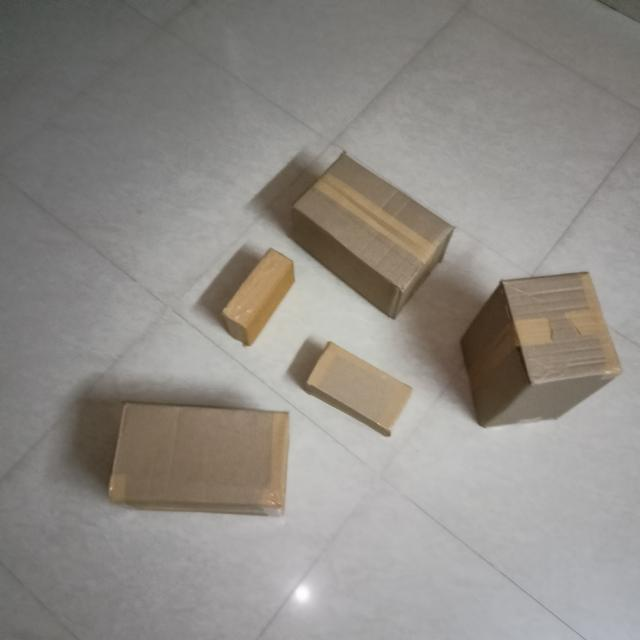box: (297, 151, 449, 288), (104, 402, 285, 503), (503, 274, 620, 379), (305, 341, 416, 430), (227, 247, 294, 326)
